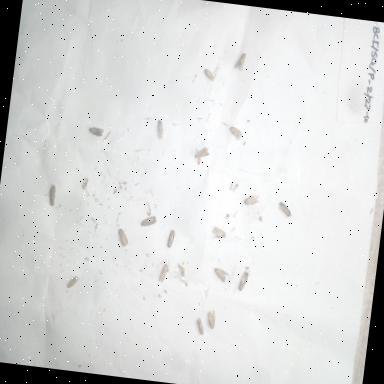pbw: (189, 142, 214, 168), (199, 62, 222, 90), (274, 194, 296, 222), (110, 225, 134, 250), (230, 49, 250, 76), (84, 122, 108, 142), (43, 180, 60, 208), (153, 259, 172, 284), (235, 268, 252, 294), (138, 210, 158, 232), (208, 218, 228, 240), (242, 190, 260, 208), (64, 273, 80, 293), (204, 306, 217, 330), (227, 122, 243, 141), (212, 266, 230, 282), (154, 116, 166, 140), (164, 225, 175, 250), (192, 316, 206, 335)
